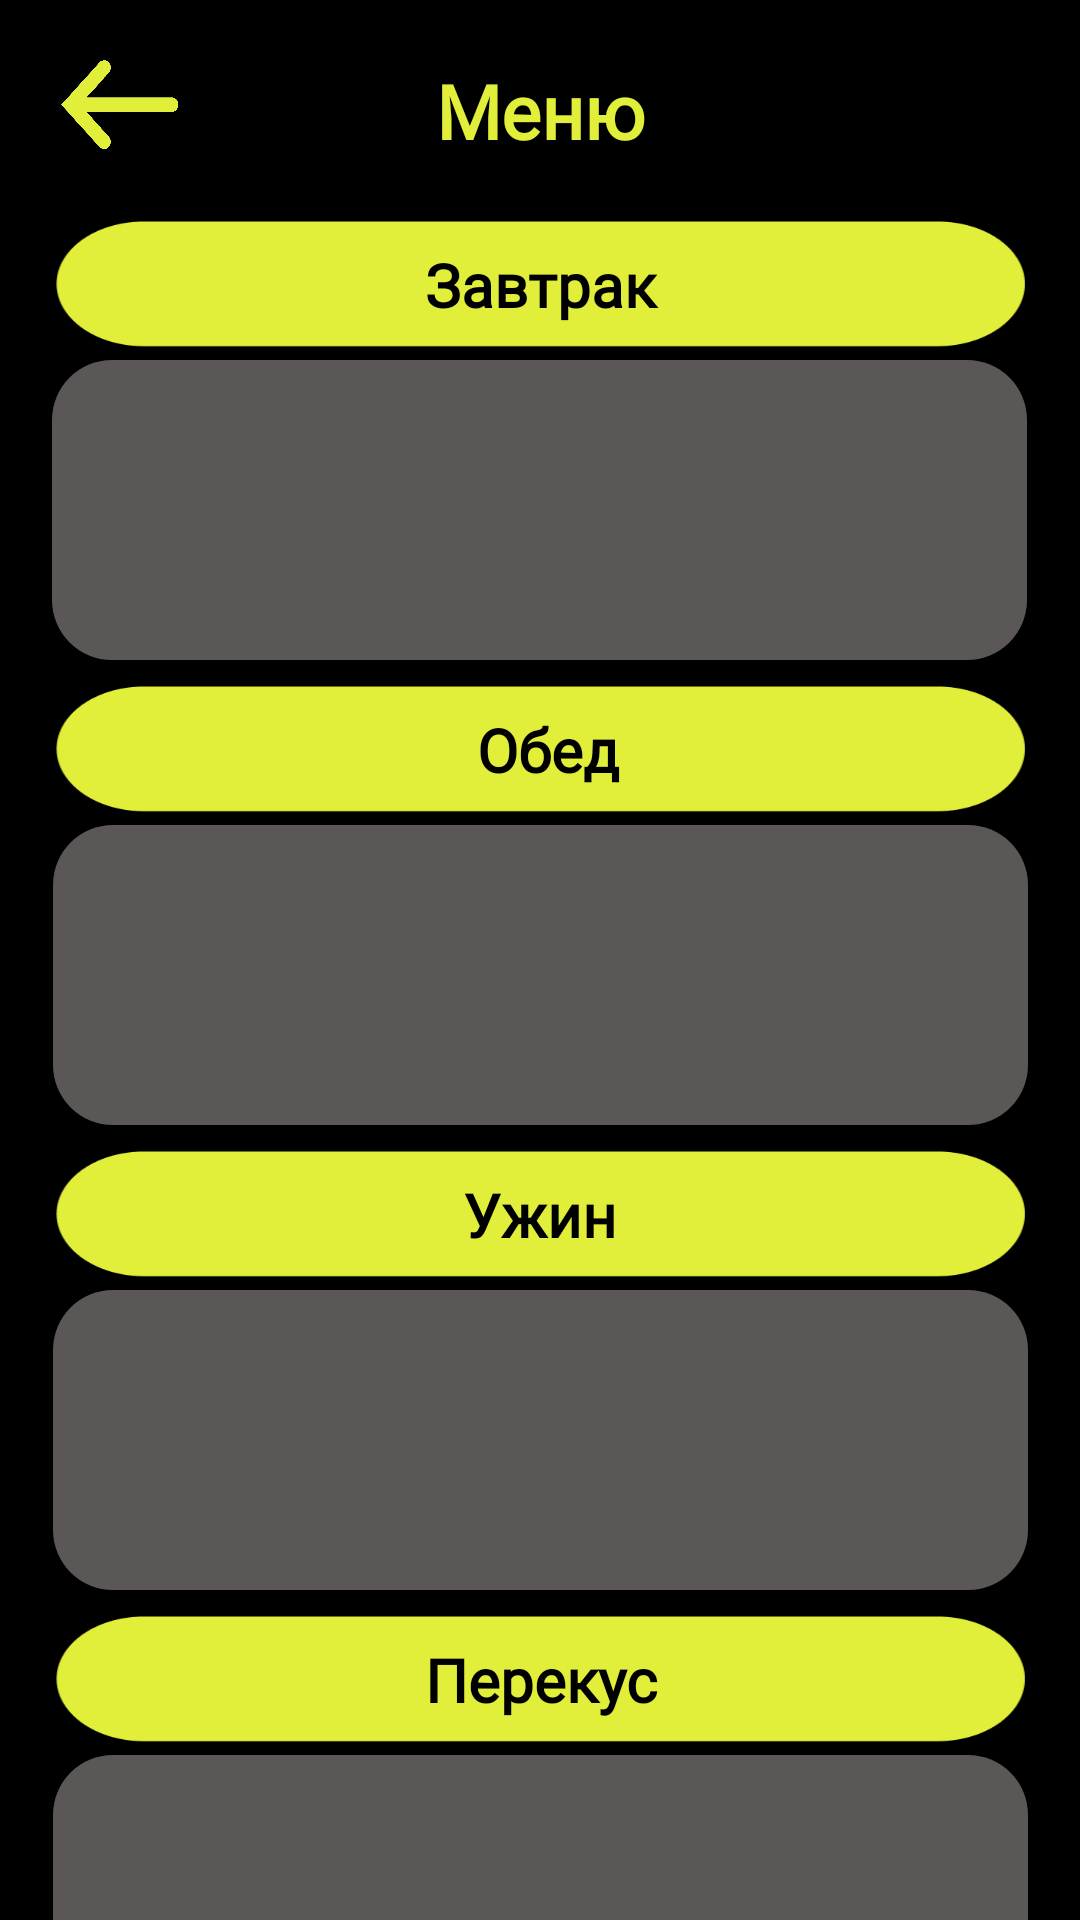

Named icons in this screenshot (1080*1920) and their bounding boxes, [x1=x1, y1=y1, x2=x2, y2=y2]:
backgreen: [x1=61, y1=60, x2=178, y2=149]
